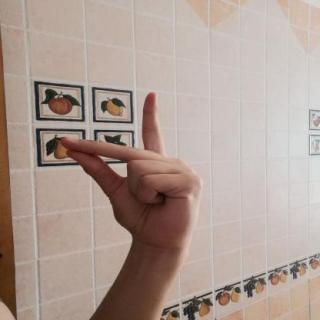TAA: (49, 85, 216, 255)
